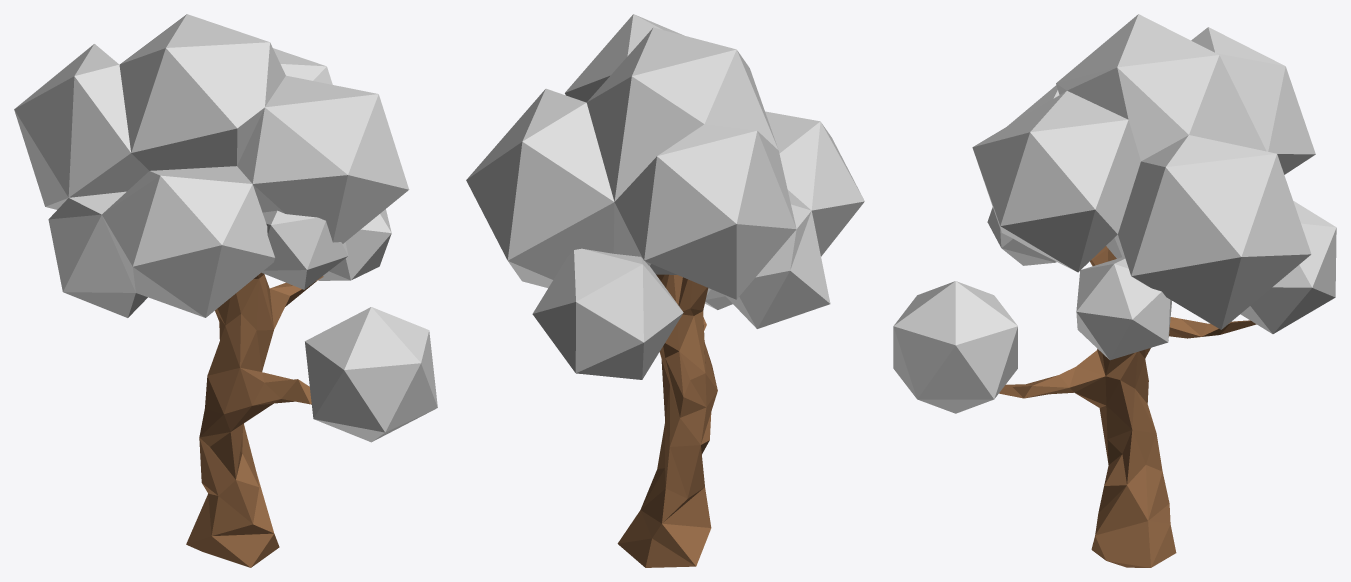
File: treelp1.fbx
3 views of the same model, side by side, from view 1: azimuth 30°, elevation 25°; view 2: azimuth 150°, elevation 25°; view 3: azimuth 270°, elevation 25° (orthographic). The views are drawn at different scales.
Parts seen in each view (by area): view 1: Icosphere.006; view 2: Icosphere.006; view 3: Icosphere.006.
Part boxes in pixels (x1,y1,x2,y2): Icosphere.006: (14, 14, 437, 567); Icosphere.006: (466, 14, 864, 567); Icosphere.006: (893, 14, 1336, 567).
Size of the model in its own units: 4102 by 6538 by 5124.
